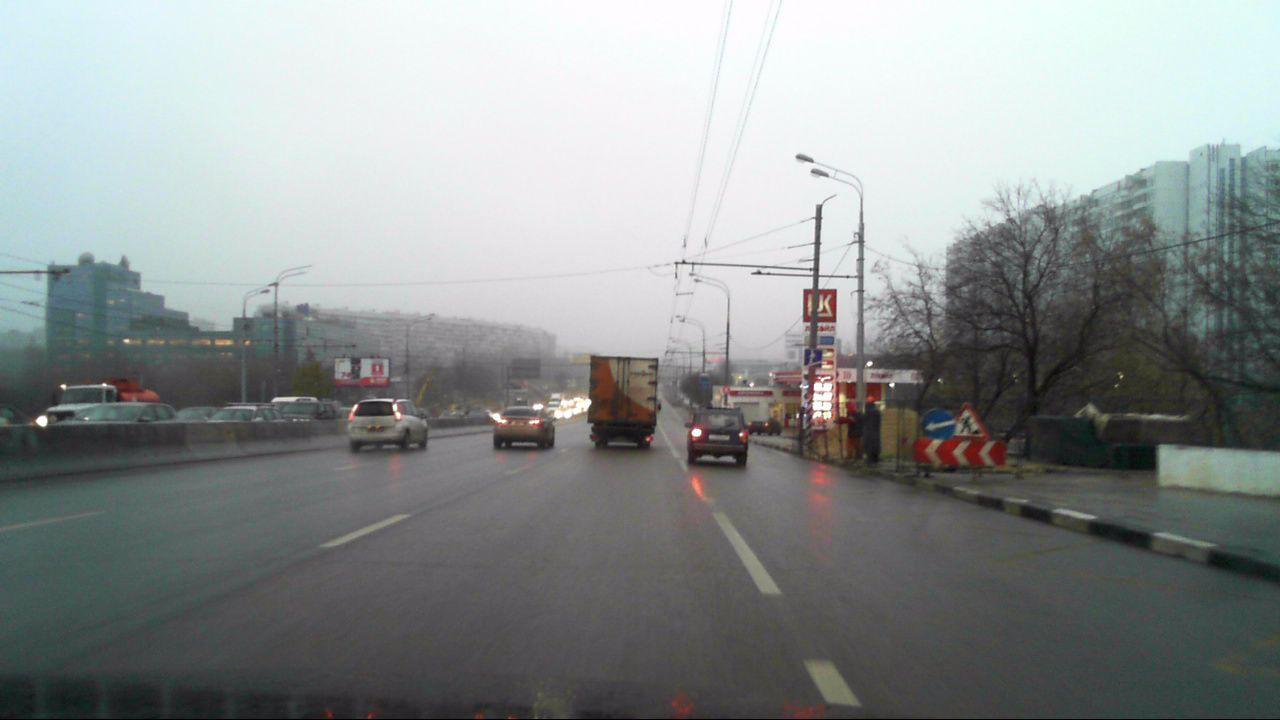1_25: (955, 399, 988, 440)
1_34_2: (914, 436, 1005, 465)
4_2_2: (921, 407, 955, 439)
6_6: (802, 348, 822, 369)
